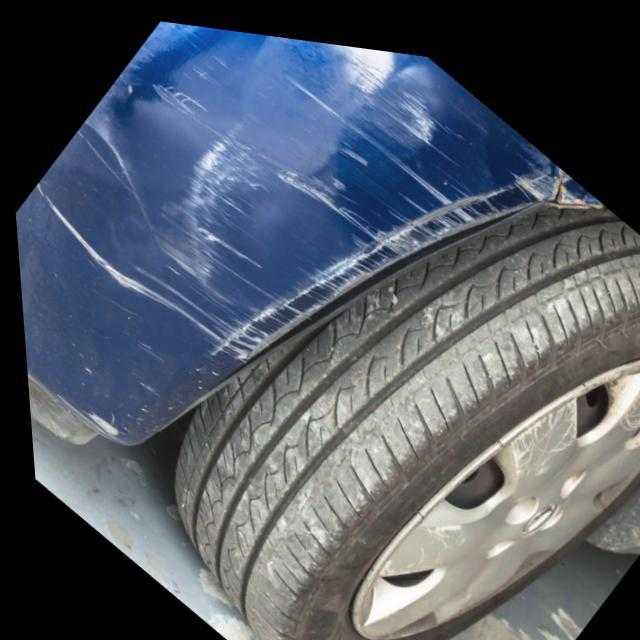scratch: (30, 17, 562, 356)
